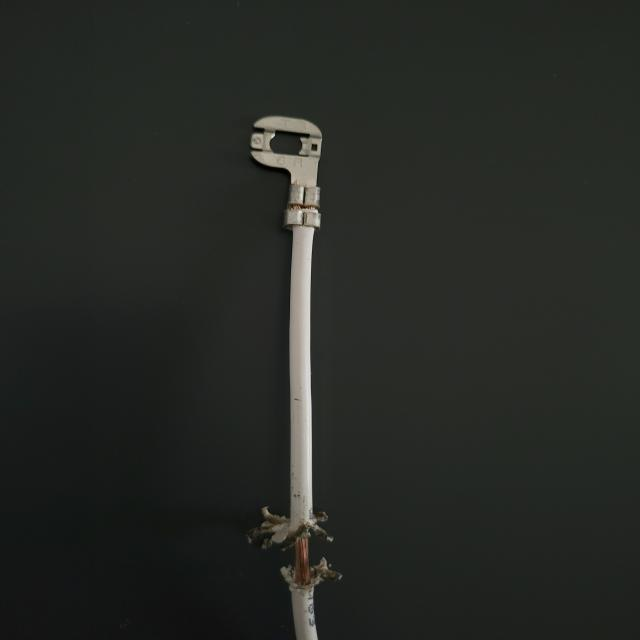defect: (186, 451, 410, 640)
